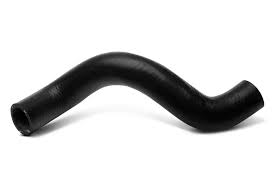radiator_hose: (12, 53, 264, 137)
